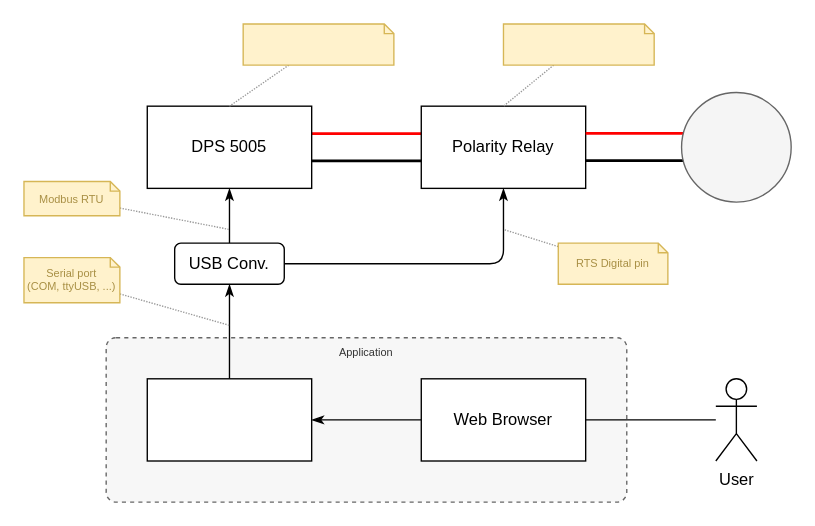
Image size: 815x526. Some labels were removed from this diagram. Each missing label, with the centre of its shape:
"Component under test" belongs at pixel 735 146.
"Digital power supply" belongs at pixel 318 44.
"IV Plotter (server)" belongs at pixel 229 419.
"Relay for revers polarity for bi-quadrant measurement" belongs at pixel 578 44.
